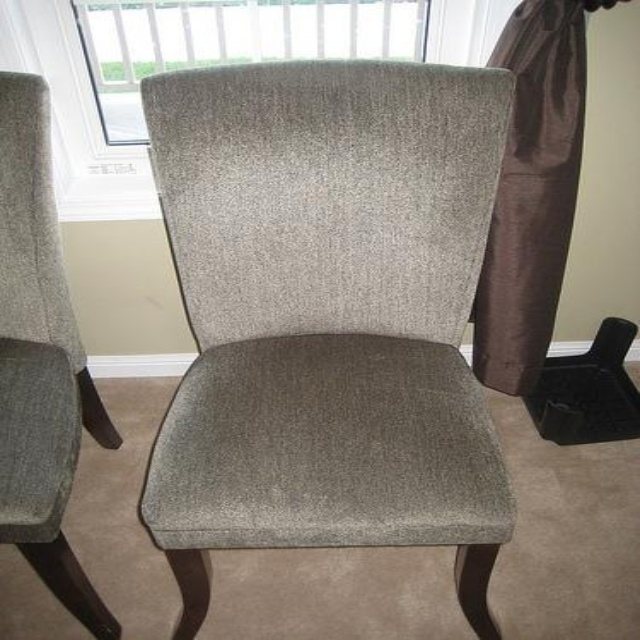obstacle: (140, 61, 514, 639)
